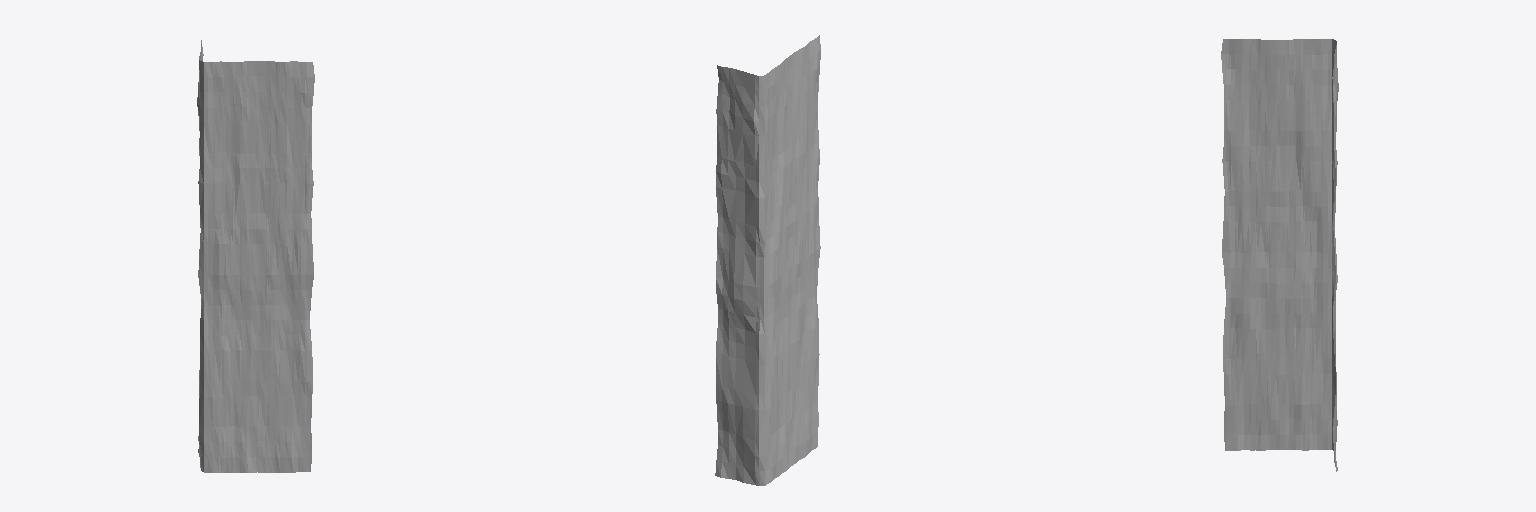
The model's file is Floorwall1Long.obj.
3 views of the same model, side by side, from view 1: azimuth 90°, elevation 25°; view 2: azimuth 150°, elevation 25°; view 3: azimuth 270°, elevation 25° (orthographic).
Parts seen in each view (by area): view 1: FloorNoBackSidesLong:box_object1; view 2: FloorNoBackSidesLong:box_object1; view 3: FloorNoBackSidesLong:box_object1.
Boxes of the visible parts, <box> form: FloorNoBackSidesLong:box_object1: <box>197,40,314,472</box>; FloorNoBackSidesLong:box_object1: <box>715,35,820,485</box>; FloorNoBackSidesLong:box_object1: <box>1221,39,1338,471</box>.
Bounding box in the file's own units: 32.37 × 258 × 67.04.